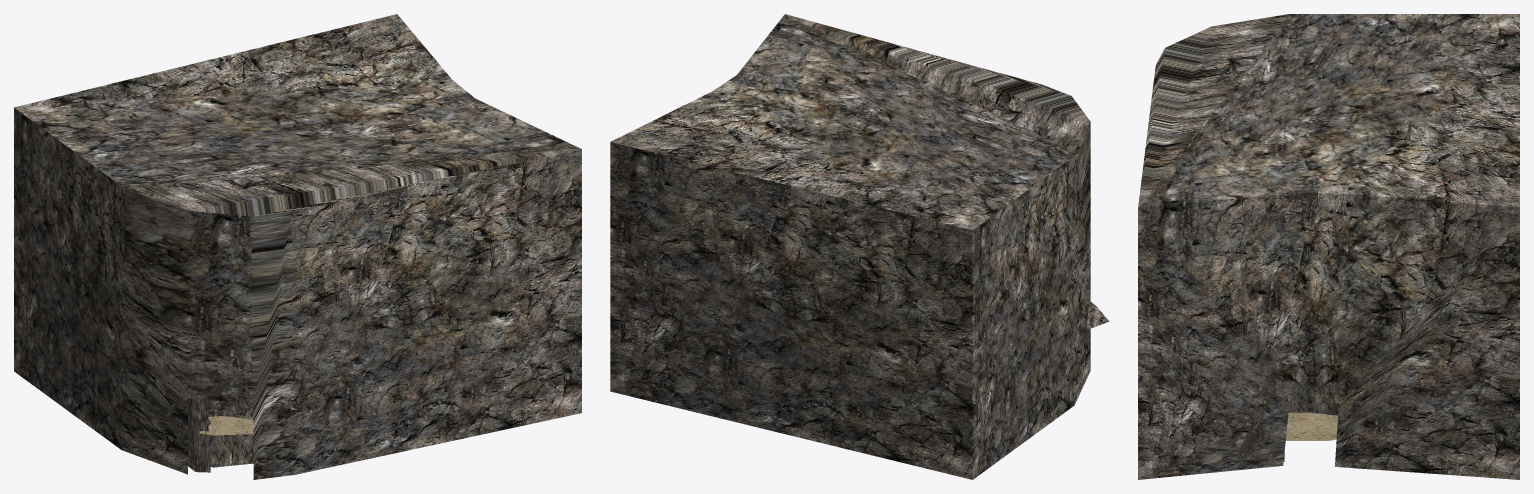
File: cave_c_zero.fbx
3 renders of one model, left to right at view 1: azimuth 30°, elevation 25°; view 2: azimuth 150°, elevation 25°; view 3: azimuth 270°, elevation 25°, orthographic. The views are drawn at different scales.
Parts seen in each view (by area): view 1: ceiling, bigRock_0, backgroundWall, pathway_floor; view 2: ceiling; view 3: ceiling, main_floor, outerWall, bigRock_1.
Boxes of the visible parts, x1,y1,x2,y2 form: ceiling: [14, 14, 581, 479]; bigRock_0: [161, 397, 287, 467]; backgroundWall: [188, 398, 210, 472]; pathway_floor: [199, 416, 253, 435]; ceiling: [610, 14, 1090, 479]; ceiling: [1138, 14, 1519, 479]; main_floor: [1285, 412, 1337, 440]; outerWall: [1236, 385, 1272, 467]; bigRock_1: [1288, 403, 1338, 415].
Bounding box in the file's own units: 45947 × 30838 × 37681.
4 materials, 4 textured.
